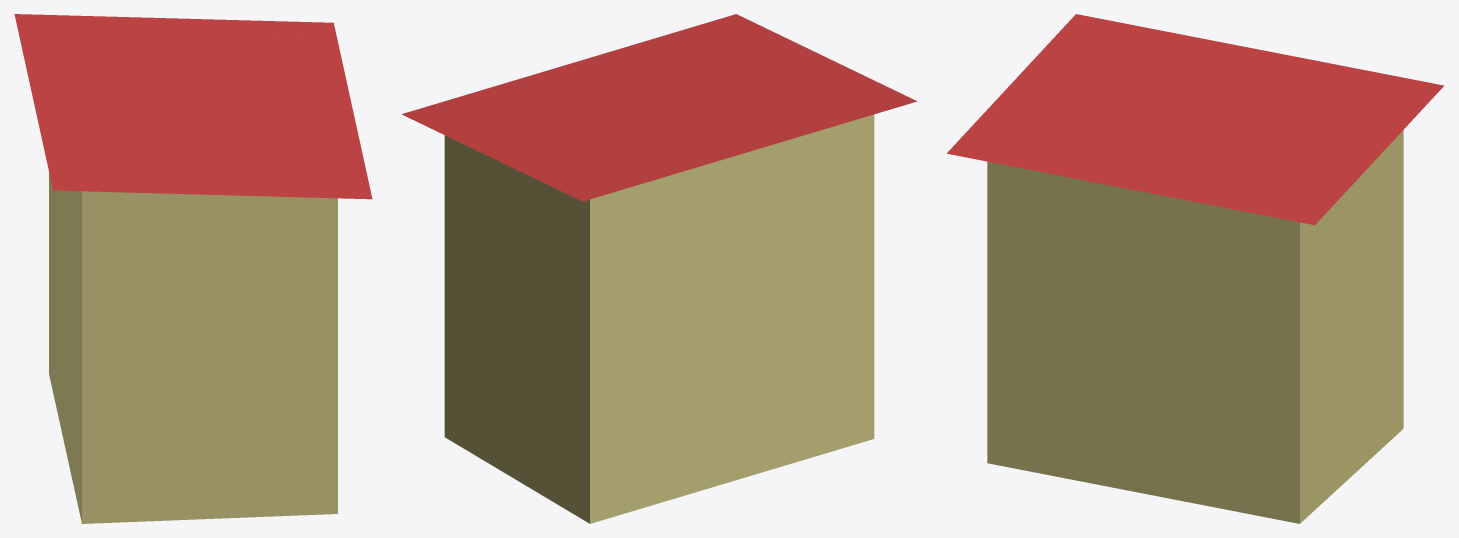
The picture shows the model from 3 angles, left to right: view 1: azimuth 30°, elevation 25°; view 2: azimuth 150°, elevation 25°; view 3: azimuth 270°, elevation 25°; orthographic projection. The views are drawn at different scales.
Size of the model in its own units: 7.32 by 8.08 by 6.03.
